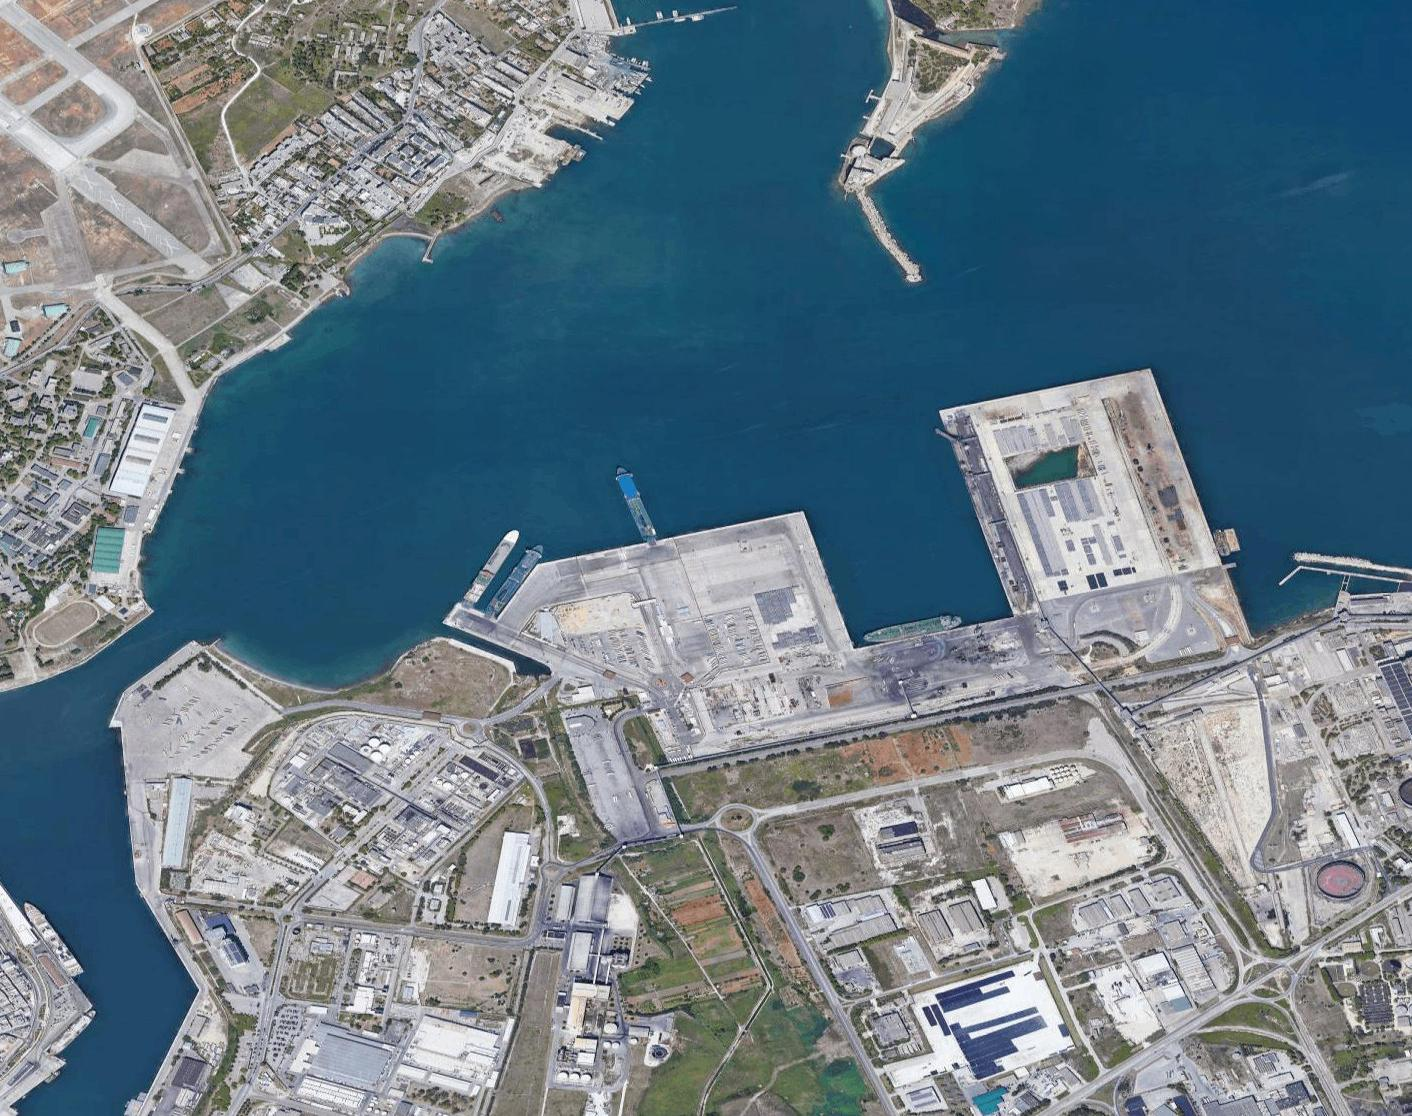harbor: (360, 356, 1305, 720), (519, 1, 1038, 292)
